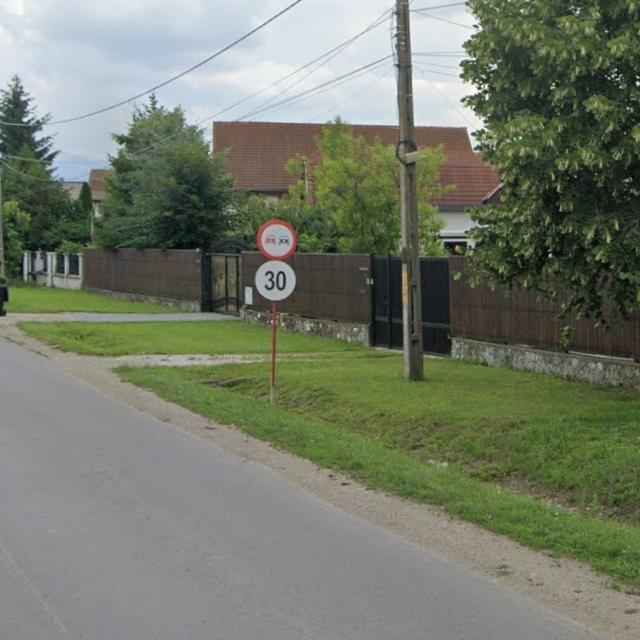forb_overtake: (258, 220, 298, 261)
